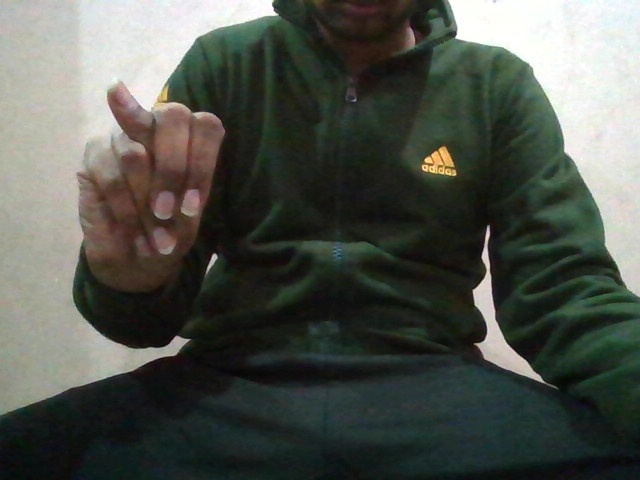N: (65, 74, 231, 280)
